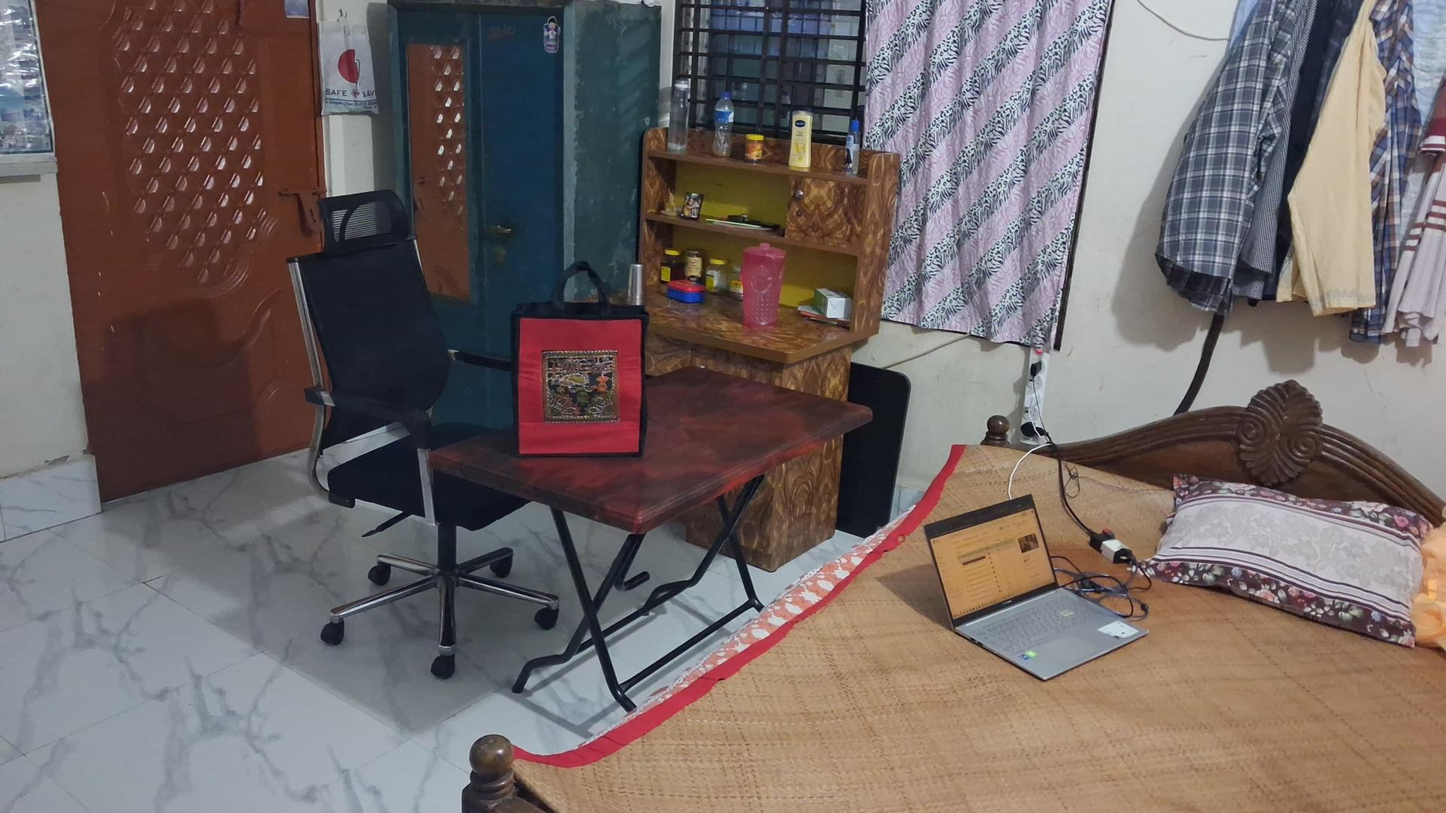Bag: (516, 265, 648, 455), (310, 10, 389, 126)
Bottle: (669, 81, 693, 151), (789, 104, 813, 169), (714, 89, 734, 156), (843, 120, 861, 173)
Box: (811, 284, 853, 321)
Chair: (287, 203, 567, 676)
Door: (34, 7, 328, 480)
Glass: (627, 259, 647, 302)
Jar: (664, 278, 708, 304), (659, 246, 683, 282), (705, 257, 728, 293), (743, 132, 765, 163)
Jug: (738, 242, 789, 329)
Laptop: (922, 492, 1150, 681)
Pillow: (1150, 466, 1428, 643)
Table: (439, 352, 867, 661)
